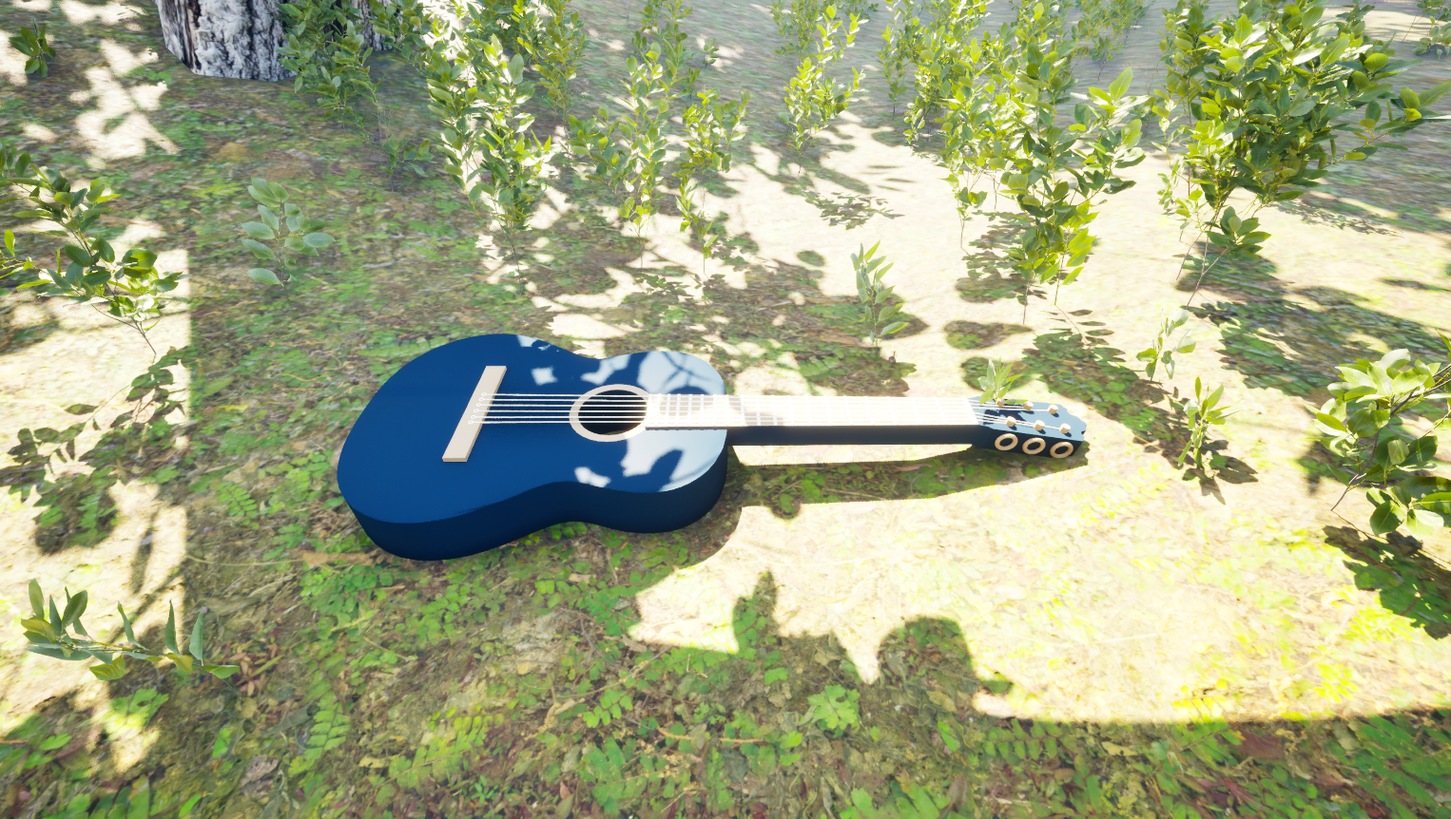Guitar: (284, 329, 1169, 565)
